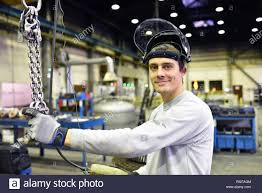Person_wearing_helmet: (137, 19, 189, 73)
